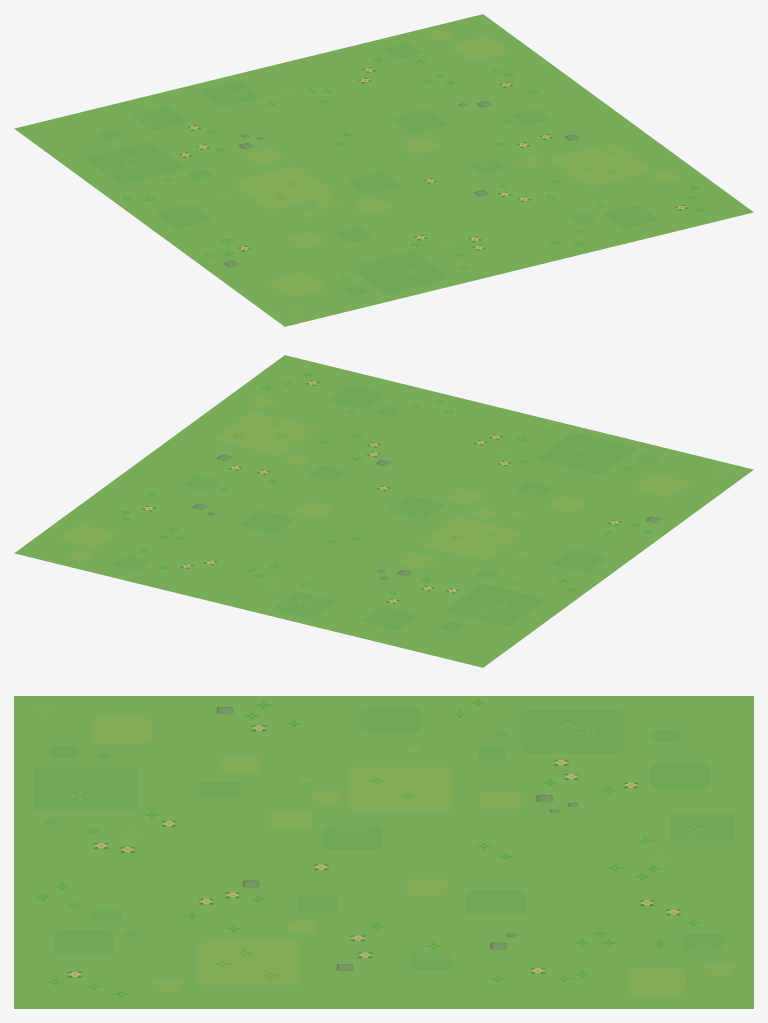
File: C_grass1_02.fbx
3 renders of one model, top to bottom at view 1: azimuth 30°, elevation 25°; view 2: azimuth 150°, elevation 25°; view 3: azimuth 270°, elevation 25°, orthographic. The views are drawn at different scales.
Visible parts, largest first — view 1: C_grass1_02; view 2: C_grass1_02; view 3: C_grass1_02.
Part boxes in pixels (bbox=[...]): C_grass1_02: bbox=[14, 14, 753, 326]; C_grass1_02: bbox=[14, 355, 753, 667]; C_grass1_02: bbox=[14, 696, 753, 1008].
Bounding box in the file's own units: 50 × 0.1888 × 50.
